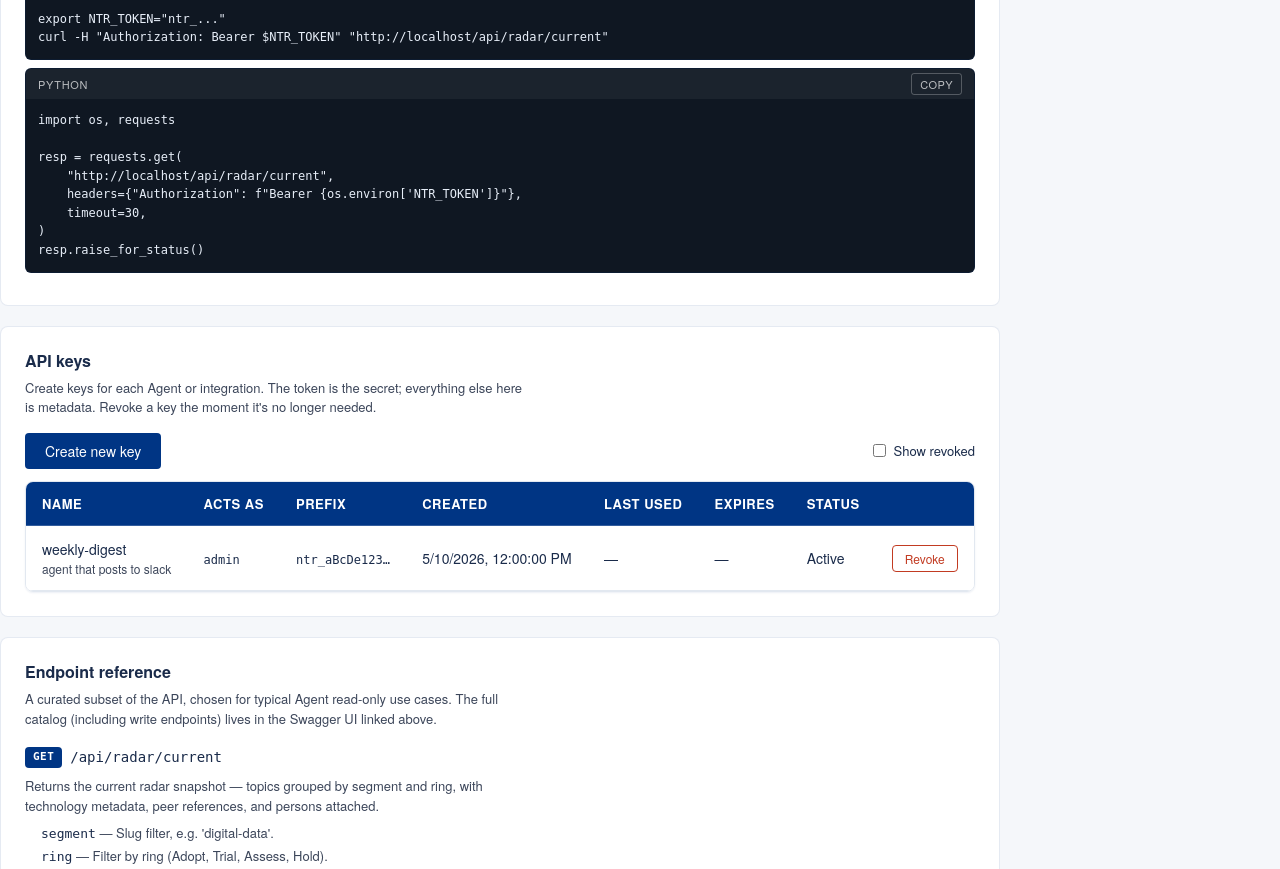
Scenario: ApiPage › hides revoked keys by default and reveals them via the toggle
The image size is (1280, 869).
(page scrolled)
Check: the text "weekly-digest" is shown, box x1=42 y1=539 x2=126 y2=559
Check: the text "old-agent" is not shown
Click the checkbox labelled "Show revoked" at (879, 451), box x1=872 y1=444 x2=886 y2=457
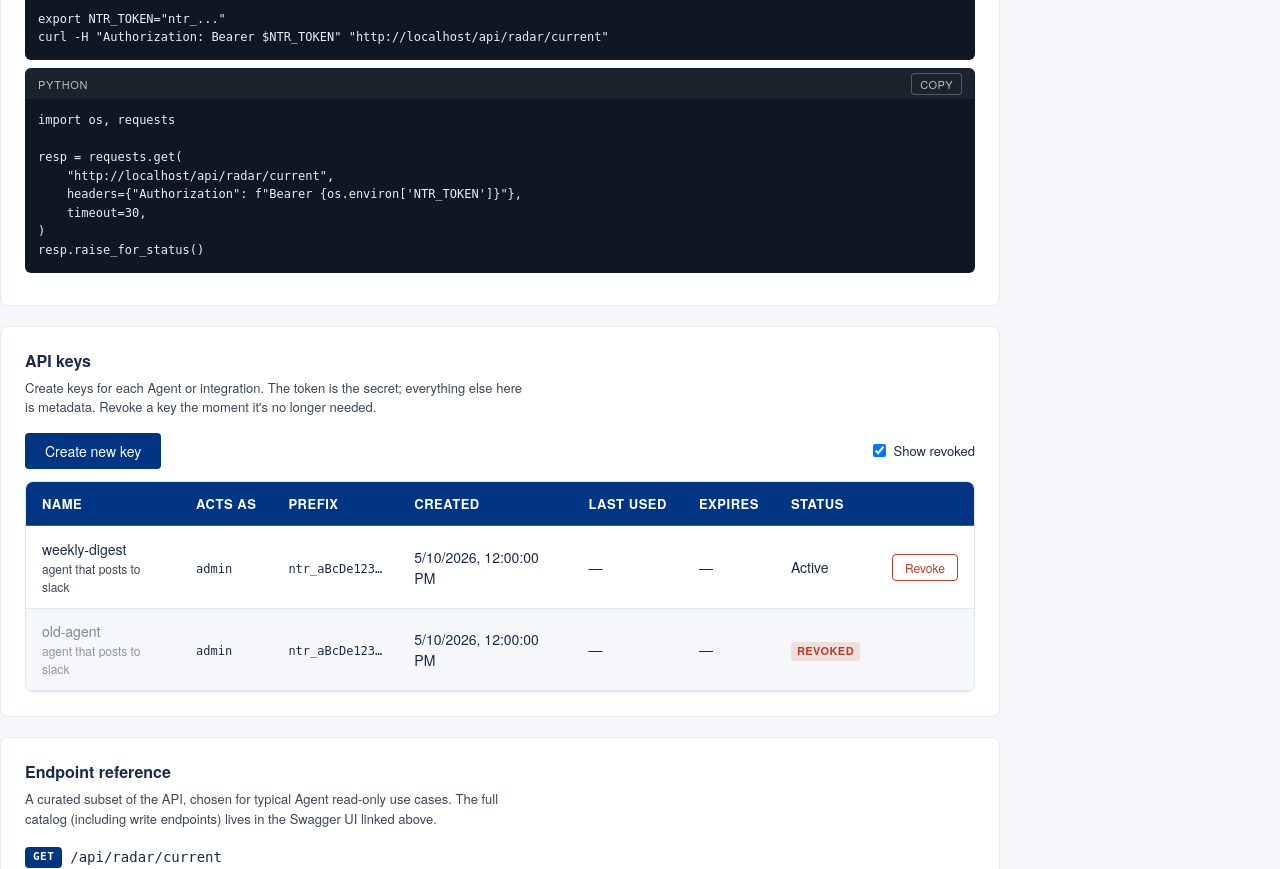
Check: the text "old-agent" is shown, box x1=42 y1=621 x2=100 y2=641
